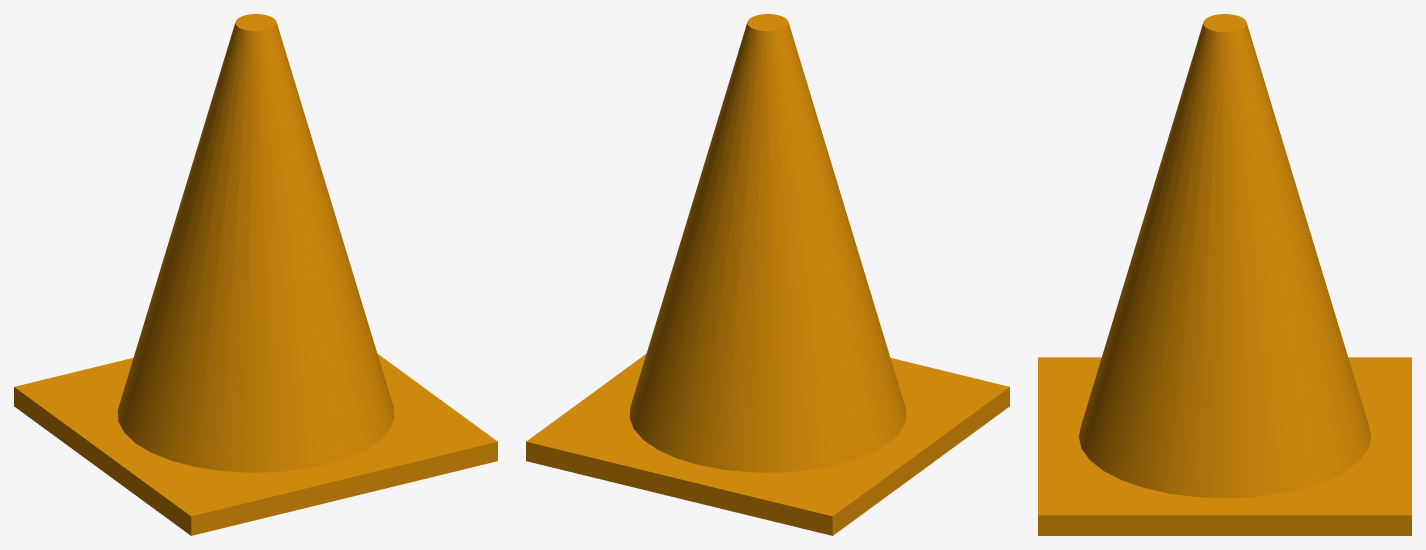
3 renders of one model, left to right at view 1: azimuth 30°, elevation 25°; view 2: azimuth 150°, elevation 25°; view 3: azimuth 270°, elevation 25°, orthographic. The views are drawn at different scales.
Parts seen in each view (by area): view 1: Cone; view 2: Cone; view 3: Cone.
Part boxes in pixels (bbox=[...]): Cone: bbox=[14, 14, 497, 535]; Cone: bbox=[526, 14, 1009, 535]; Cone: bbox=[1038, 14, 1411, 535].
Size of the model in its own units: 193 by 248 by 193.
